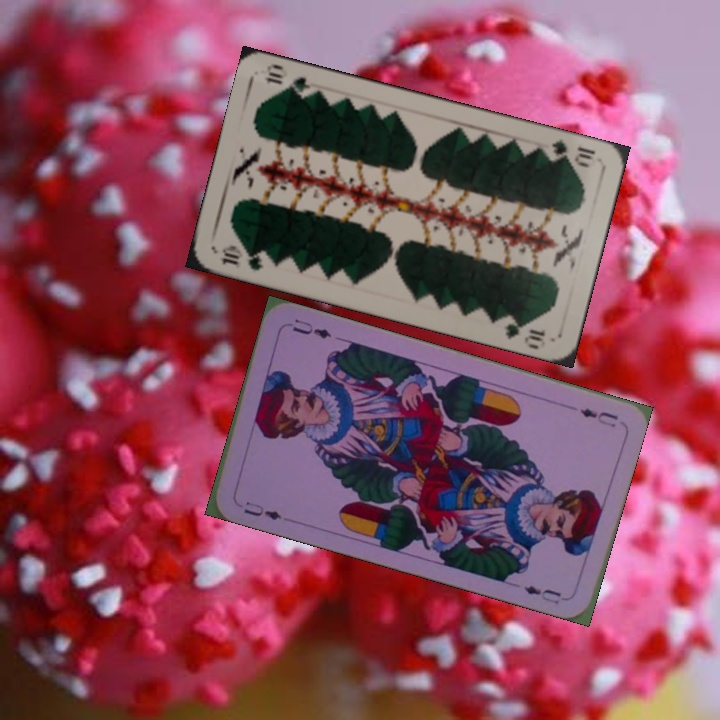EU: (575, 404, 621, 430), (240, 497, 284, 523)
G10: (217, 241, 274, 273), (547, 136, 599, 170)
